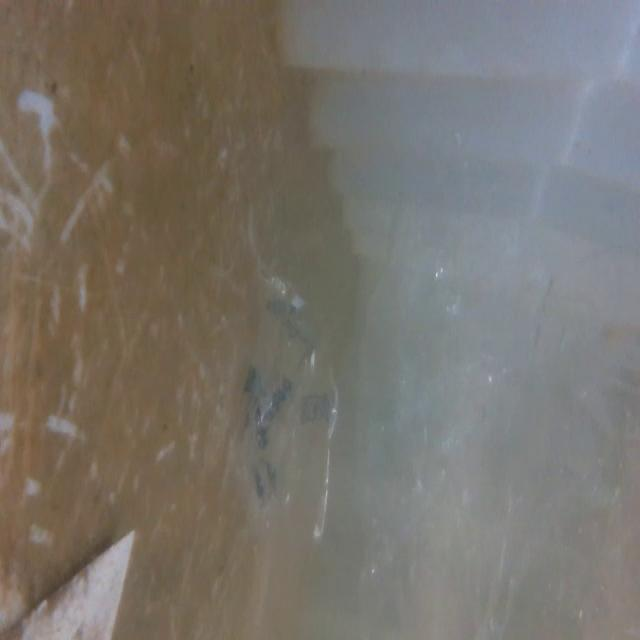metal: (1, 517, 141, 640)
plastic bags: (382, 232, 615, 640), (227, 260, 342, 562)
